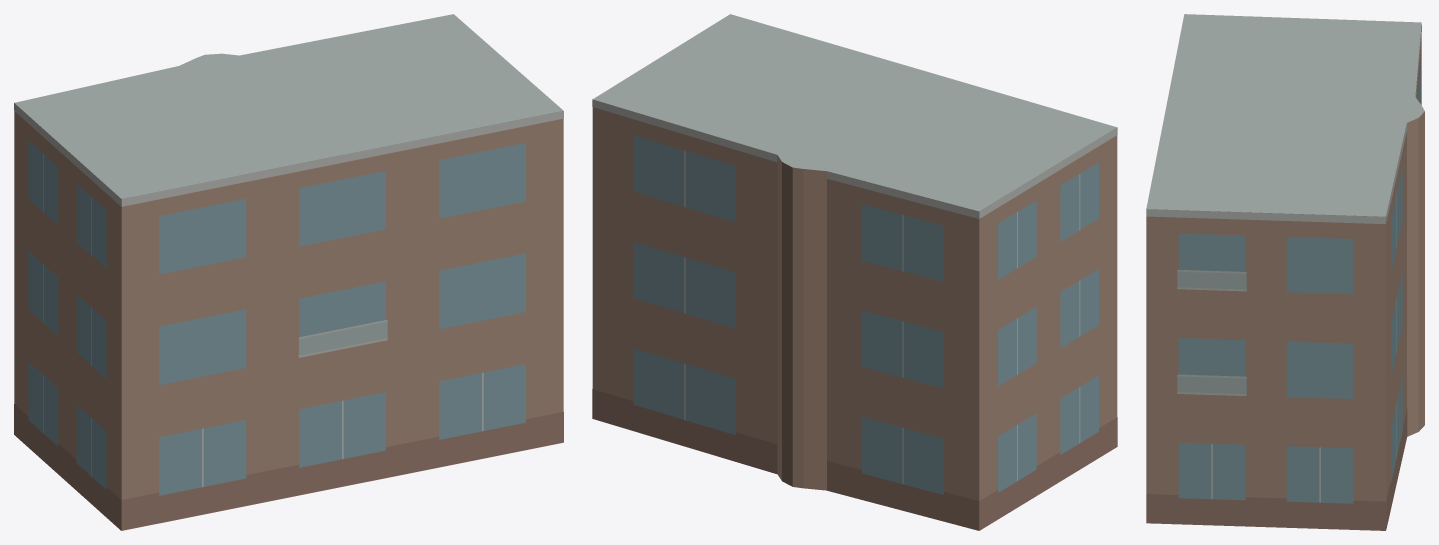
File: survey-upis-32928157.glb
3 renders of one model, left to right at view 1: azimuth 30°, elevation 25°; view 2: azimuth 150°, elevation 25°; view 3: azimuth 270°, elevation 25°, orthographic. The views are drawn at different scales.
Parts seen in each view (by area): view 1: survey-upis-32928157.tmp; view 2: survey-upis-32928157.tmp; view 3: survey-upis-32928157.tmp.
Boxes of the visible parts, x1,y1,x2,y2 form: survey-upis-32928157.tmp: (14, 14, 563, 530); survey-upis-32928157.tmp: (592, 14, 1117, 530); survey-upis-32928157.tmp: (1146, 14, 1424, 530).
Bounding box in the file's own units: 14.26 × 10.3 × 8.28.
